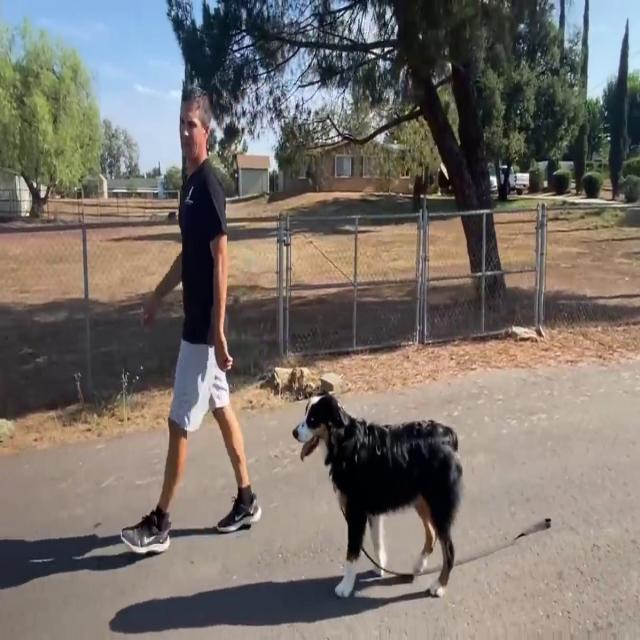Unleashed_Dog: (183, 337, 464, 601)
